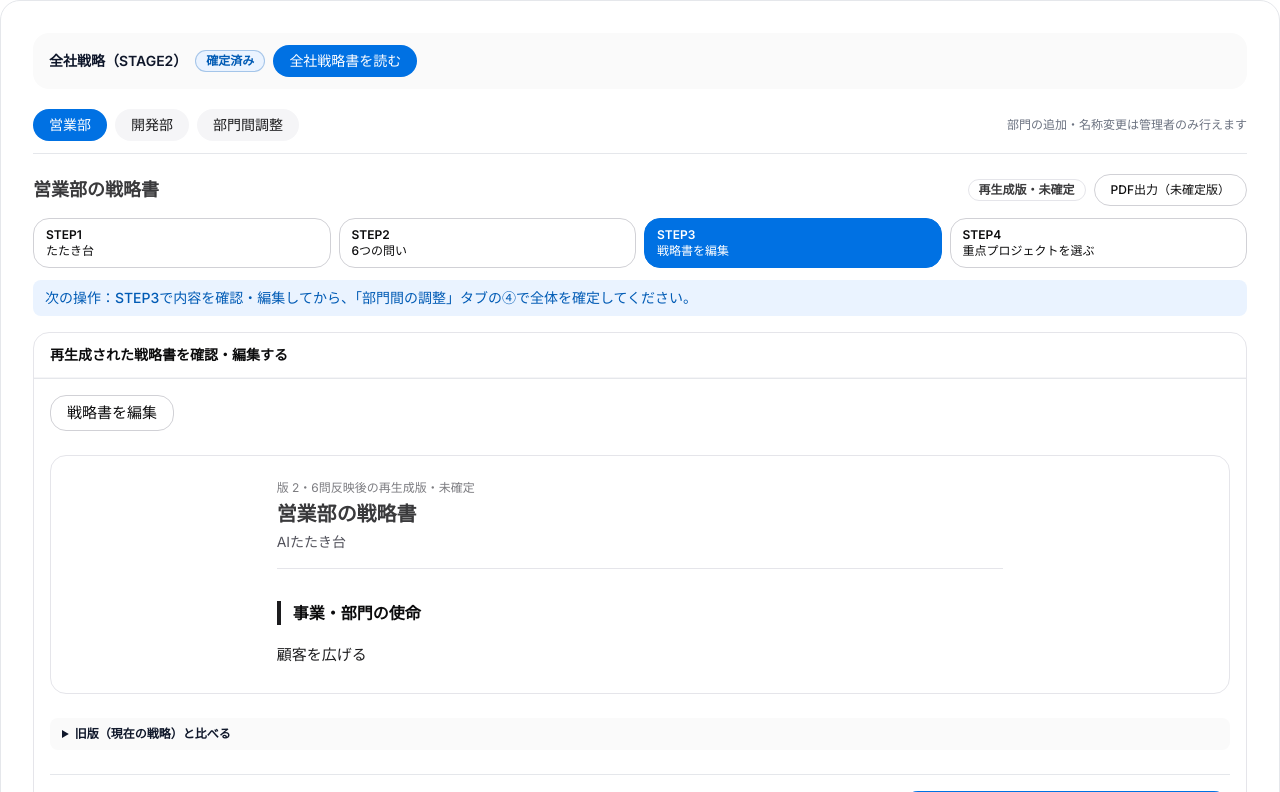
it: 確定条件（課題10） › 分析済みで調整候補が0件なら、確定ボタンを押せる
The image size is (1280, 792).
Click the button "部門間調整".
click(248, 125)  # box [197,109,299,141]
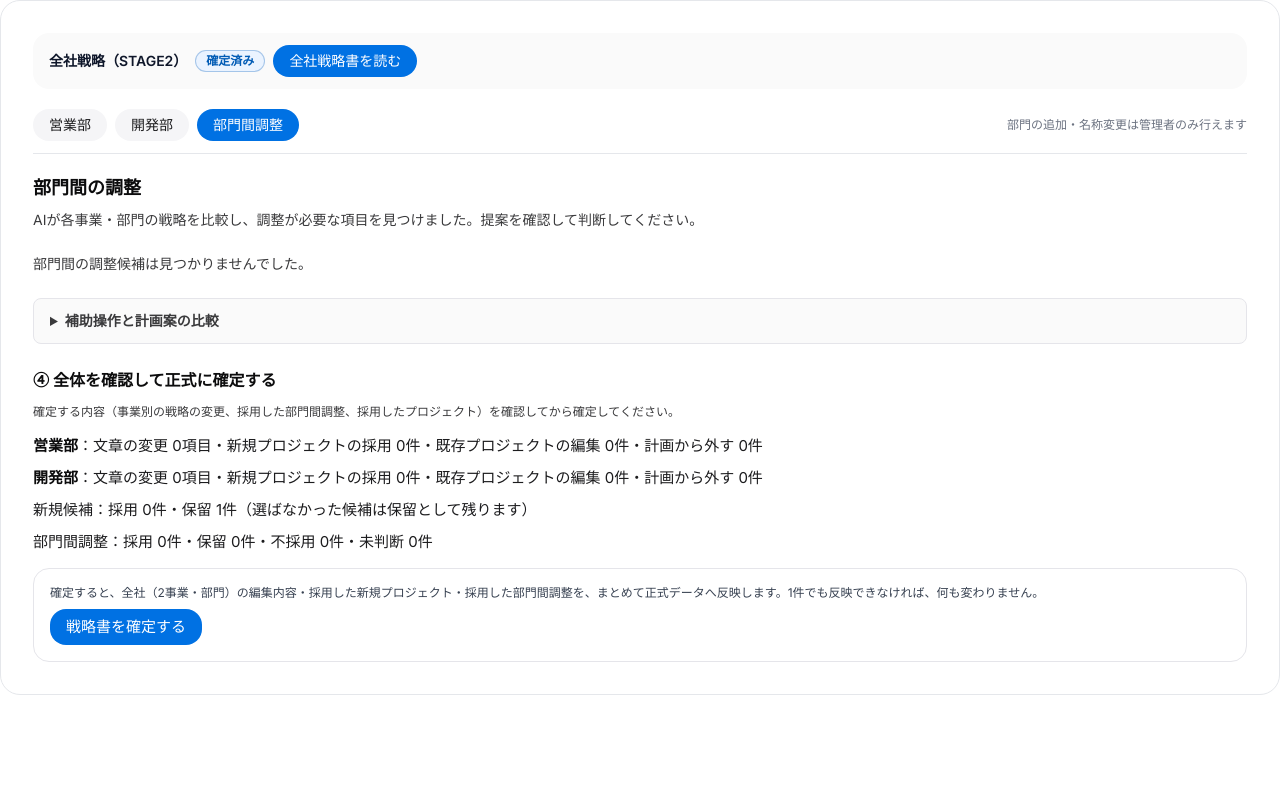
Now the button "戦略書を確定する" is enabled, box [50,609,202,645]
